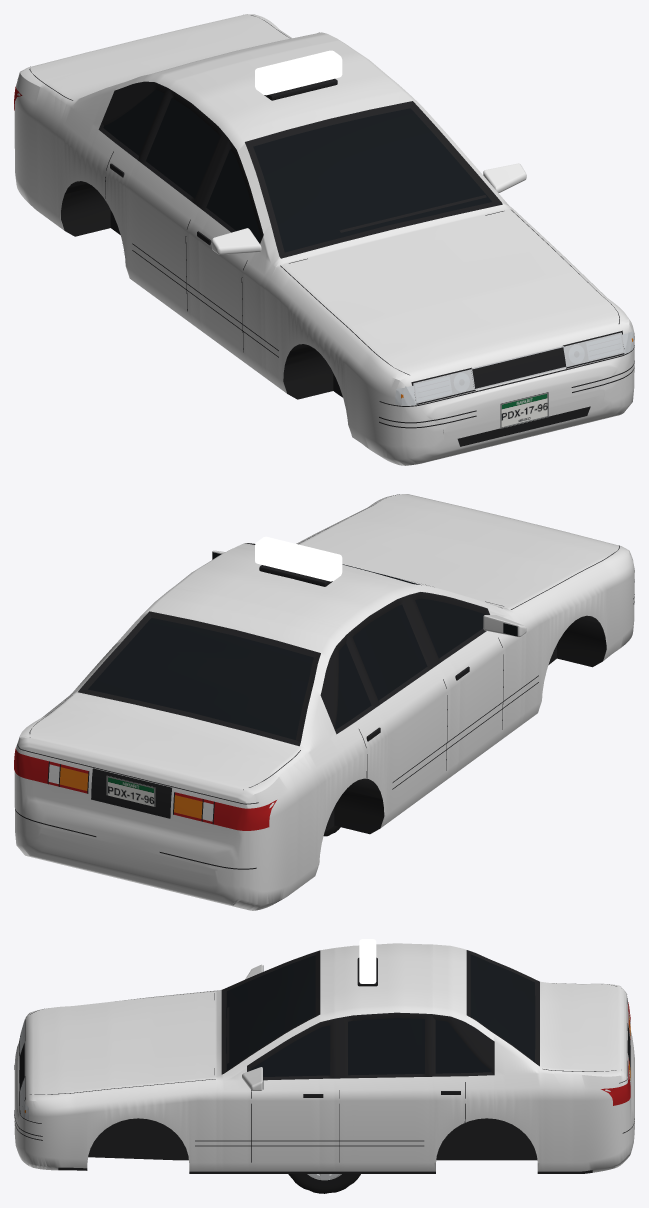
The model's file is nissan-tsuru.glb.
3 views of the same model, one above another, from view 1: azimuth 30°, elevation 25°; view 2: azimuth 150°, elevation 25°; view 3: azimuth 270°, elevation 25° (orthographic). The views are drawn at different scales.
Visible parts, largest first — view 1: body; view 2: body; view 3: body, wheel.
Part boxes in pixels (left/top/right/bottom): body: left=14, top=14, right=634, bottom=465; body: left=14, top=494, right=634, bottom=910; body: left=14, top=939, right=634, bottom=1173; wheel: left=288, top=1174, right=360, bottom=1193.
Size of the model in its own units: 1.95 by 1.82 by 4.33.
1 material, 1 textured.
